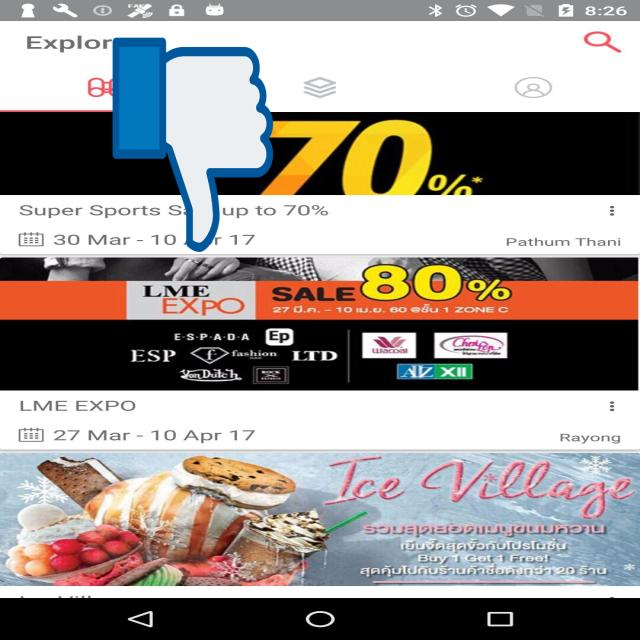obstruction: (113, 33, 273, 257)
